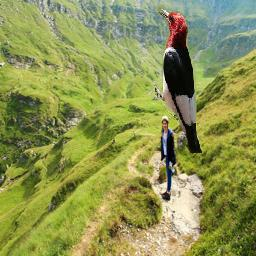Woodpecker: (155, 5, 203, 153)
